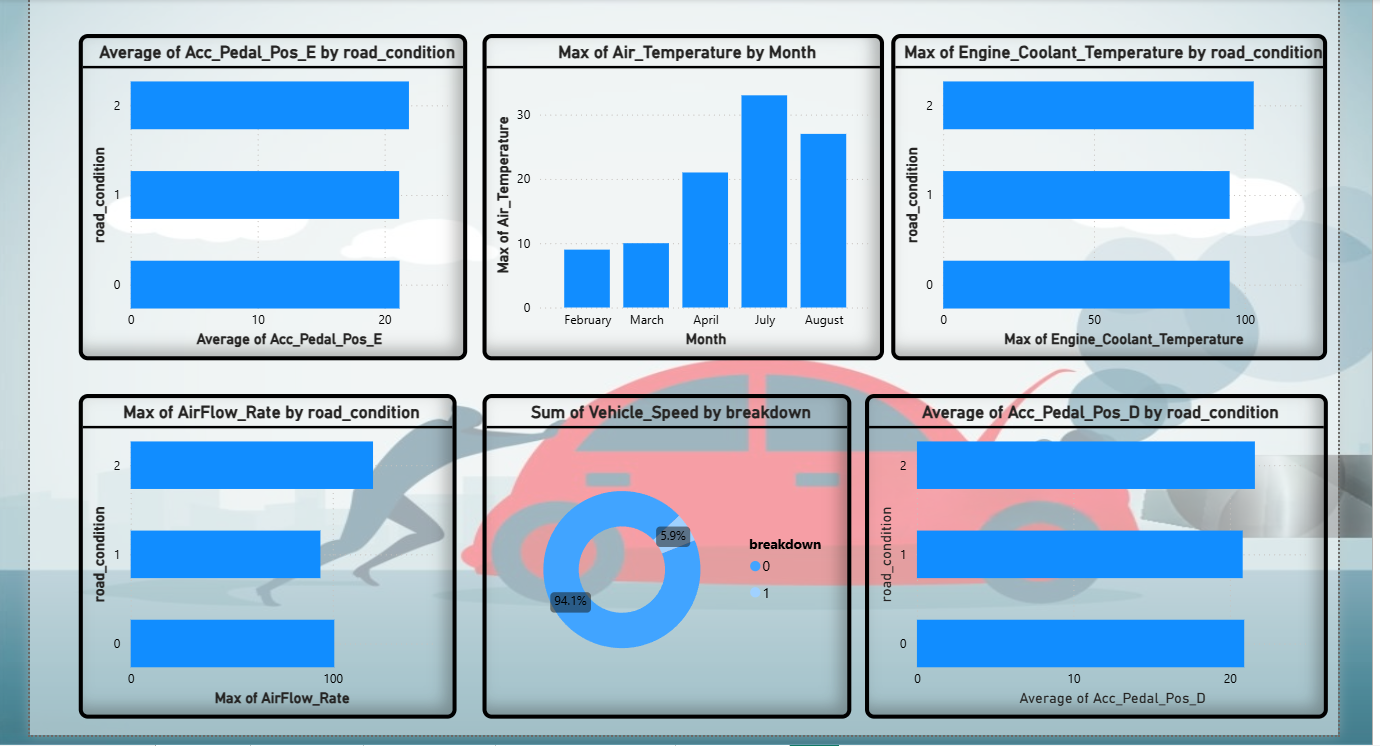

This screenshot's page, from the dashboard's own definition file:
{"tool":"powerbi","page":{"name":"Analysis2","canvas":[1280,720],"ordinal":4},"visuals":[{"type":"clusteredColumnChart","fields":{"Category":["cleaned_obd_with_timestamp.Timestamp.Variation.Date Hierarchy.Month"],"Y":["Max(cleaned_obd_with_timestamp.Air_Temperature)"]},"box":[442.7,34.2,392.5,319.2],"z":0},{"type":"barChart","fields":{"Category":["cleaned_obd_with_timestamp.road_condition"],"Y":["Max(cleaned_obd_with_timestamp.Engine_Coolant_Temperature)"]},"box":[842.5,34.2,426.8,319.2],"z":1000},{"type":"barChart","fields":{"Category":["cleaned_obd_with_timestamp.road_condition"],"Y":["Max(cleaned_obd_with_timestamp.AirFlow_Rate)"]},"box":[47.7,386.4,369.3,317.9],"z":2000},{"type":"clusteredBarChart","fields":{"Category":["cleaned_obd_with_timestamp.road_condition"],"Y":["Avg(cleaned_obd_with_timestamp.Acc_Pedal_Pos_D)"]},"box":[816.9,386.4,452.4,317.9],"z":3000},{"type":"clusteredBarChart","fields":{"Y":["Avg(cleaned_obd_with_timestamp.Acc_Pedal_Pos_E)"],"Category":["cleaned_obd_with_timestamp.road_condition"]},"box":[47.7,34.2,380.3,319.2],"z":4000},{"type":"donutChart","fields":{"Y":["Sum(cleaned_obd_with_timestamp.Vehicle_Speed)"],"Category":["cleaned_obd_with_timestamp.breakdown"]},"box":[442.7,386.4,360.7,317.9],"z":5000}]}

Visuals, with their boxes in screenshot pixels (x1, y1, x2, y2):
clusteredColumnChart - cleaned_obd_with_timestamp.Timestamp.Variation.Date Hierarchy.Month x Max(cleaned_obd_with_timestamp.Air_Temperature): BBox(478, 31, 880, 358)
barChart - cleaned_obd_with_timestamp.road_condition x Max(cleaned_obd_with_timestamp.Engine_Coolant_Temperature): BBox(888, 31, 1325, 358)
barChart - cleaned_obd_with_timestamp.road_condition x Max(cleaned_obd_with_timestamp.AirFlow_Rate): BBox(74, 392, 452, 718)
clusteredBarChart - cleaned_obd_with_timestamp.road_condition x Avg(cleaned_obd_with_timestamp.Acc_Pedal_Pos_D): BBox(862, 392, 1325, 718)
clusteredBarChart - Avg(cleaned_obd_with_timestamp.Acc_Pedal_Pos_E) x cleaned_obd_with_timestamp.road_condition: BBox(74, 31, 463, 358)
donutChart - Sum(cleaned_obd_with_timestamp.Vehicle_Speed) x cleaned_obd_with_timestamp.breakdown: BBox(478, 392, 848, 718)
